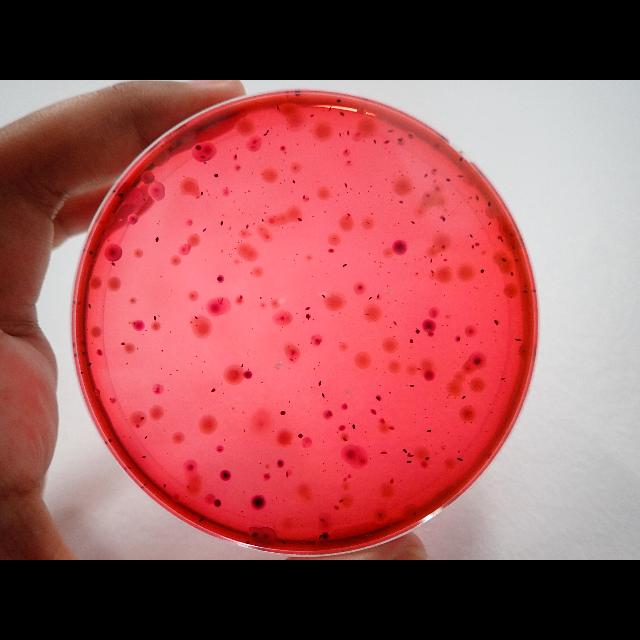colony: (392, 239, 408, 255), (251, 494, 265, 510), (220, 470, 230, 480), (347, 449, 355, 458), (214, 499, 222, 507), (96, 349, 104, 356), (322, 532, 328, 540), (277, 460, 283, 468), (474, 358, 481, 364), (118, 192, 124, 198), (110, 249, 116, 255), (280, 410, 286, 416), (295, 90, 301, 96), (195, 144, 201, 150), (155, 236, 159, 242), (88, 302, 92, 308), (78, 300, 82, 306), (198, 518, 204, 522), (252, 532, 258, 536), (263, 534, 269, 538), (280, 540, 286, 544), (352, 424, 356, 430), (318, 381, 322, 387), (188, 465, 194, 469), (210, 388, 216, 392), (328, 411, 332, 417), (393, 320, 397, 326), (515, 338, 521, 342), (494, 319, 498, 325), (328, 249, 334, 253), (344, 182, 348, 188), (474, 242, 480, 246), (384, 140, 390, 144), (342, 264, 348, 268), (376, 294, 379, 300), (220, 220, 223, 226), (89, 250, 93, 254), (111, 262, 115, 266), (72, 300, 76, 304), (87, 362, 91, 366), (82, 351, 86, 355), (74, 353, 78, 357), (108, 438, 112, 442), (246, 540, 250, 544), (318, 535, 322, 539), (320, 518, 324, 522), (286, 470, 288, 478), (298, 434, 302, 438), (343, 438, 347, 442), (425, 457, 429, 461), (403, 449, 407, 453), (407, 453, 411, 457), (380, 452, 388, 454), (410, 384, 414, 388), (376, 397, 380, 401), (339, 499, 343, 503), (378, 513, 382, 517), (390, 480, 394, 484), (290, 358, 294, 362), (306, 314, 310, 318), (322, 294, 326, 298), (306, 307, 310, 311), (369, 296, 373, 300), (409, 339, 413, 343), (416, 329, 420, 333), (202, 228, 206, 232), (298, 218, 302, 222), (424, 174, 428, 178), (432, 168, 436, 172), (446, 178, 450, 182), (426, 194, 430, 198), (442, 218, 446, 222), (441, 245, 445, 249), (480, 269, 484, 273), (502, 258, 506, 262), (408, 134, 412, 138), (398, 138, 402, 142), (340, 112, 344, 116), (337, 99, 341, 103), (281, 146, 285, 150), (292, 180, 296, 184), (214, 174, 218, 178), (411, 221, 415, 225), (302, 195, 306, 199), (310, 114, 314, 118), (358, 285, 362, 289), (217, 277, 221, 281), (457, 458, 463, 460), (406, 461, 412, 463), (426, 430, 432, 432), (216, 449, 222, 451), (140, 416, 144, 419), (431, 270, 434, 274), (246, 224, 248, 230), (399, 200, 403, 203), (511, 272, 514, 276), (496, 236, 502, 238), (488, 222, 492, 225), (457, 175, 463, 177), (388, 130, 394, 132), (416, 368, 422, 370), (195, 316, 198, 320), (409, 455, 414, 457), (112, 190, 116, 192), (144, 198, 146, 202), (80, 372, 84, 374), (104, 442, 108, 444), (144, 436, 148, 438), (142, 456, 146, 458), (164, 484, 166, 488), (462, 396, 466, 398), (322, 394, 324, 398), (121, 343, 125, 345), (154, 316, 156, 320), (241, 364, 243, 368), (501, 378, 505, 380), (414, 512, 416, 516), (365, 313, 369, 315), (458, 337, 460, 341), (522, 350, 526, 352), (524, 284, 526, 288), (532, 290, 536, 292), (524, 290, 526, 294), (497, 294, 499, 298), (430, 259, 432, 263), (262, 218, 264, 222), (347, 214, 351, 216), (516, 258, 518, 262), (472, 245, 474, 249), (470, 234, 472, 238), (501, 238, 503, 242), (509, 234, 513, 236), (488, 202, 490, 206), (476, 196, 478, 200), (277, 105, 279, 109), (267, 130, 269, 134), (201, 191, 203, 195), (201, 156, 205, 158), (339, 133, 341, 137), (347, 131, 349, 135), (345, 149, 347, 153), (374, 140, 376, 144), (235, 154, 237, 158), (229, 227, 231, 230), (237, 167, 240, 169), (157, 223, 159, 225), (158, 220, 160, 222), (107, 239, 109, 241), (92, 300, 94, 302), (109, 398, 111, 400), (130, 436, 132, 438), (129, 467, 131, 469), (187, 486, 189, 488), (241, 511, 243, 513), (228, 520, 230, 522), (275, 497, 277, 499), (271, 499, 273, 501), (259, 462, 261, 464), (266, 466, 268, 468), (306, 453, 308, 455), (458, 451, 460, 453), (449, 394, 451, 396), (288, 401, 290, 403), (223, 439, 225, 441), (158, 315, 160, 317), (143, 334, 145, 336), (161, 350, 163, 352), (170, 374, 172, 376), (204, 361, 206, 363), (248, 368, 250, 370), (246, 374, 248, 376), (370, 457, 372, 459), (369, 446, 371, 448), (414, 421, 416, 423), (317, 365, 319, 367), (313, 368, 315, 370), (280, 330, 282, 332), (308, 318, 310, 320), (313, 319, 315, 321), (303, 321, 305, 323), (296, 312, 298, 314), (339, 312, 341, 314), (388, 302, 390, 304), (385, 316, 387, 318), (389, 326, 391, 328), (428, 325, 430, 327), (446, 324, 448, 326), (466, 344, 468, 346), (480, 341, 482, 343), (505, 384, 507, 386), (504, 380, 506, 382), (474, 287, 476, 289), (416, 273, 418, 275), (424, 256, 426, 258), (414, 258, 416, 260), (404, 263, 406, 265), (382, 242, 384, 244), (364, 238, 366, 240), (294, 260, 296, 262), (230, 256, 232, 258), (221, 250, 223, 252), (232, 248, 234, 250), (242, 212, 244, 214), (292, 226, 294, 228), (312, 216, 314, 218), (337, 194, 339, 196), (370, 186, 372, 188), (434, 180, 436, 182), (436, 188, 438, 190), (444, 259, 446, 261), (510, 296, 512, 298), (460, 158, 462, 160), (264, 134, 266, 136), (284, 151, 286, 153), (297, 143, 299, 145), (314, 144, 316, 146), (281, 170, 283, 172), (280, 182, 282, 184), (262, 187, 264, 189), (267, 206, 269, 208), (278, 218, 280, 220), (264, 212, 266, 214), (222, 214, 224, 216), (206, 190, 208, 192), (208, 194, 210, 196), (206, 200, 208, 202), (196, 187, 198, 189), (204, 162, 206, 164), (304, 124, 306, 126), (310, 130, 312, 132), (248, 190, 250, 192), (244, 192, 246, 194), (286, 119, 288, 121), (388, 151, 390, 153), (394, 224, 396, 226), (371, 213, 373, 215), (467, 201, 469, 203), (481, 228, 483, 230), (504, 252, 506, 254), (494, 256, 496, 258), (483, 251, 485, 253), (311, 387, 313, 389), (428, 374, 430, 376), (398, 356, 400, 358), (378, 273, 380, 275), (388, 271, 390, 273), (379, 266, 381, 268), (379, 261, 381, 263), (374, 261, 376, 263), (369, 252, 371, 254), (348, 161, 350, 163), (270, 127, 272, 129), (277, 134, 279, 136), (250, 137, 252, 139), (236, 148, 238, 150), (252, 172, 254, 174), (184, 244, 186, 246), (190, 321, 192, 323), (195, 325, 197, 327), (326, 272, 328, 274), (311, 276, 313, 278), (320, 260, 322, 262), (288, 209, 290, 211), (104, 305, 105, 307), (88, 328, 89, 330), (125, 418, 126, 420), (243, 516, 244, 518), (268, 472, 270, 473), (424, 408, 426, 409), (470, 422, 472, 423), (464, 422, 466, 423), (491, 411, 492, 413), (398, 437, 400, 438), (434, 398, 436, 399), (407, 384, 408, 386), (276, 402, 278, 403), (256, 451, 258, 452), (164, 431, 166, 432), (126, 362, 128, 363), (128, 322, 130, 323), (196, 357, 198, 358), (261, 382, 263, 383), (242, 412, 244, 413), (322, 470, 323, 472), (324, 471, 326, 472), (337, 470, 338, 472), (354, 458, 356, 459), (482, 384, 483, 386), (431, 444, 432, 446), (435, 452, 437, 453), (424, 438, 426, 439), (310, 342, 312, 343), (427, 307, 428, 309), (442, 324, 443, 326), (477, 324, 478, 326), (296, 253, 298, 254), (228, 253, 230, 254), (230, 253, 232, 254), (248, 243, 250, 244), (248, 246, 250, 247), (196, 233, 197, 235), (250, 213, 252, 214), (253, 223, 254, 225), (337, 200, 338, 202), (351, 188, 352, 190), (331, 186, 332, 188), (358, 192, 359, 194), (368, 191, 369, 193), (378, 196, 380, 197), (448, 214, 449, 216), (471, 196, 472, 198), (183, 176, 185, 177), (398, 223, 400, 224), (452, 193, 453, 195), (481, 210, 482, 212), (447, 266, 448, 268), (298, 391, 300, 392), (408, 358, 410, 359), (382, 262, 383, 264), (337, 154, 338, 156), (220, 402, 222, 403), (218, 411, 220, 412), (441, 388, 442, 389), (481, 388, 482, 389), (381, 408, 382, 409), (378, 411, 379, 412), (382, 361, 383, 362), (243, 492, 245, 492), (292, 465, 292, 467), (302, 456, 304, 456), (289, 444, 291, 444), (337, 432, 338, 432), (322, 442, 323, 442), (324, 440, 324, 440), (348, 424, 349, 424), (366, 432, 366, 432), (425, 418, 427, 418), (414, 414, 416, 414), (446, 407, 446, 408), (472, 412, 472, 412), (447, 398, 449, 398), (454, 398, 456, 398), (272, 418, 274, 418), (262, 422, 264, 422), (260, 424, 262, 424), (244, 430, 246, 430), (243, 432, 244, 432), (256, 442, 258, 442), (166, 454, 168, 454), (158, 422, 158, 423), (126, 364, 128, 364), (138, 348, 138, 350), (134, 322, 134, 323), (145, 330, 147, 330), (152, 360, 152, 360), (162, 367, 162, 369), (176, 370, 178, 370), (192, 364, 192, 364), (222, 394, 224, 394), (220, 384, 222, 384), (224, 426, 226, 426), (324, 463, 324, 465), (342, 465, 342, 467), (346, 472, 346, 473), (336, 462, 336, 463), (344, 404, 344, 404), (384, 372, 386, 372), (375, 368, 377, 368), (380, 384, 380, 386), (390, 392, 390, 394), (490, 404, 490, 404), (460, 357, 460, 358), (462, 352, 462, 354), (468, 384, 469, 384), (471, 406, 472, 406), (460, 439, 460, 441), (448, 432, 448, 434), (458, 436, 459, 436), (417, 438, 418, 438), (296, 358, 296, 360), (318, 362, 320, 362), (298, 344, 298, 344), (288, 347, 288, 348), (282, 327, 282, 328), (346, 302, 346, 302), (332, 315, 332, 317), (393, 336, 395, 336), (417, 328, 418, 328), (450, 316, 452, 316), (477, 334, 478, 334), (486, 286, 486, 286), (477, 288, 478, 288), (470, 292, 470, 294), (456, 284, 456, 286), (432, 274, 432, 276), (434, 284, 436, 284), (420, 258, 420, 260), (394, 260, 396, 260), (334, 237, 334, 239), (283, 260, 285, 260), (294, 266, 294, 268), (270, 264, 270, 266), (242, 258, 242, 260), (246, 268, 248, 268), (222, 252, 222, 252), (234, 248, 236, 248), (238, 240, 240, 240), (242, 240, 242, 242), (238, 242, 240, 242), (232, 235, 232, 237), (228, 232, 228, 232), (240, 208, 240, 210), (240, 232, 242, 232), (282, 226, 282, 228), (324, 212, 326, 212), (348, 192, 348, 192), (390, 191, 390, 193), (392, 200, 392, 200), (392, 182, 392, 182), (386, 180, 386, 180), (394, 173, 394, 174), (402, 174, 402, 176), (394, 176, 394, 177), (400, 172, 400, 172), (407, 172, 408, 172), (414, 187, 414, 189), (430, 213, 430, 214), (437, 232, 439, 232), (434, 246, 434, 247), (442, 254, 442, 256), (494, 310, 496, 310), (270, 143, 270, 145), (284, 180, 284, 180), (264, 192, 264, 194), (266, 205, 266, 207), (256, 208, 258, 208), (233, 202, 235, 202), (216, 198, 218, 198), (226, 188, 228, 188), (232, 192, 232, 192), (288, 128, 288, 130), (370, 208, 372, 208), (476, 210, 476, 212), (482, 212, 482, 214), (448, 266, 448, 268), (444, 296, 444, 296), (401, 320, 402, 320), (288, 368, 290, 368), (308, 412, 310, 412), (380, 348, 380, 350), (388, 285, 388, 287), (402, 232, 403, 232), (330, 147, 330, 149), (230, 149, 230, 151), (204, 260, 206, 260), (202, 308, 202, 310), (191, 296, 193, 296), (170, 331, 170, 334), (182, 342, 182, 342), (168, 391, 168, 392), (166, 410, 167, 410), (202, 408, 202, 410), (356, 377, 356, 378), (376, 320, 376, 320), (386, 327, 386, 328)
